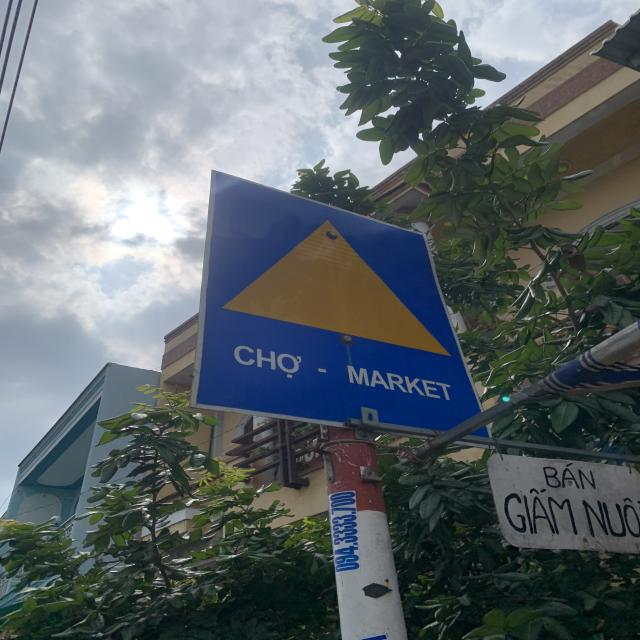Cho_Quay_Xe: (197, 171, 487, 437)
